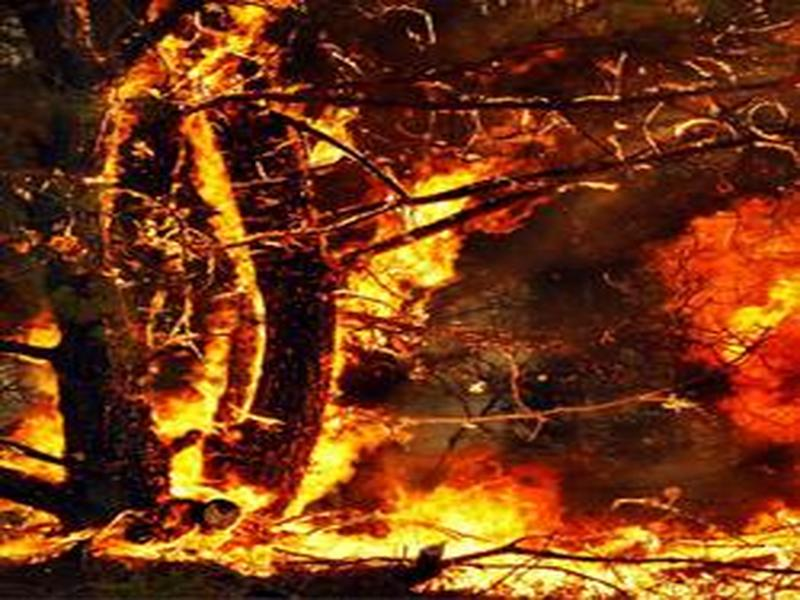FIRE: (48, 89, 702, 600)
